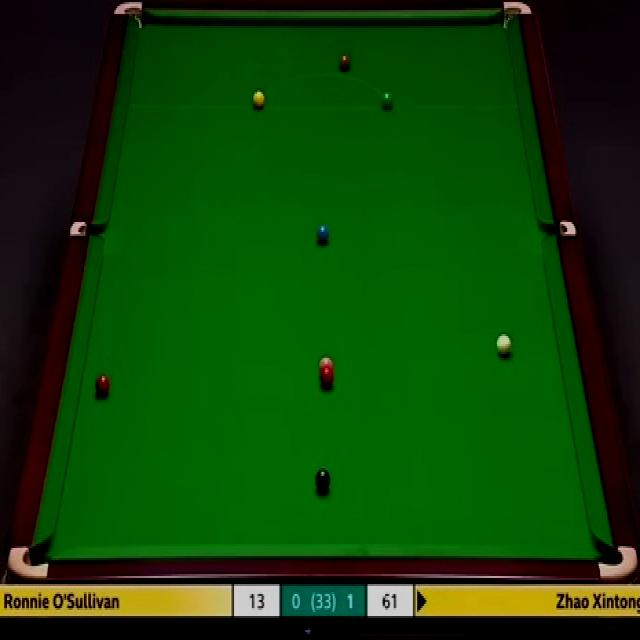black-ball: (315, 468, 330, 492)
blue-ball: (316, 222, 330, 243)
brown-ball: (338, 53, 351, 70)
green-ball: (380, 89, 393, 110)
pink-ball: (318, 354, 335, 372)
red-ball: (96, 374, 110, 395), (318, 370, 334, 387)
white-ball: (496, 331, 512, 358)
yellow-ball: (253, 90, 265, 110)
